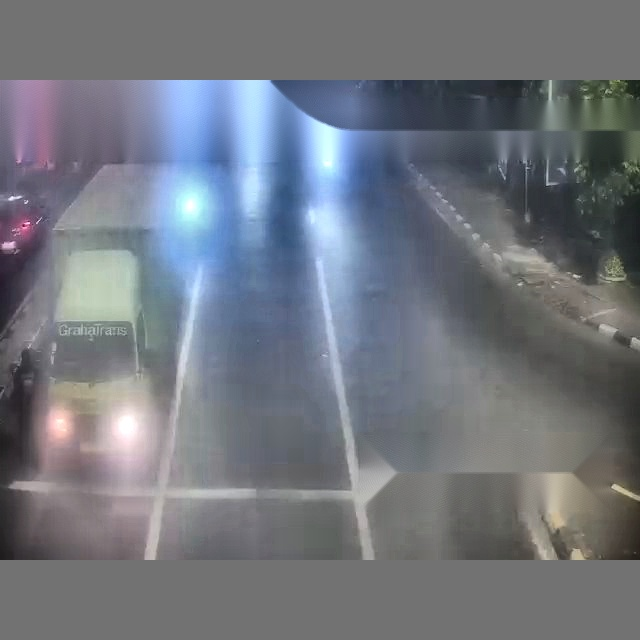Mobil: (0, 195, 46, 270)
